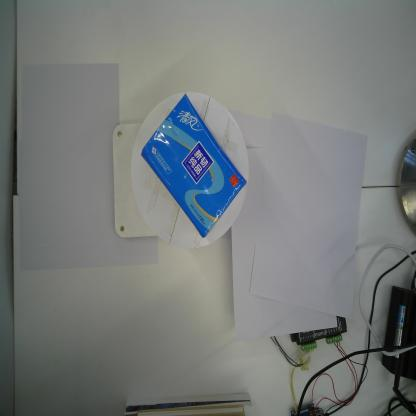Tissue: (141, 92, 247, 239)
